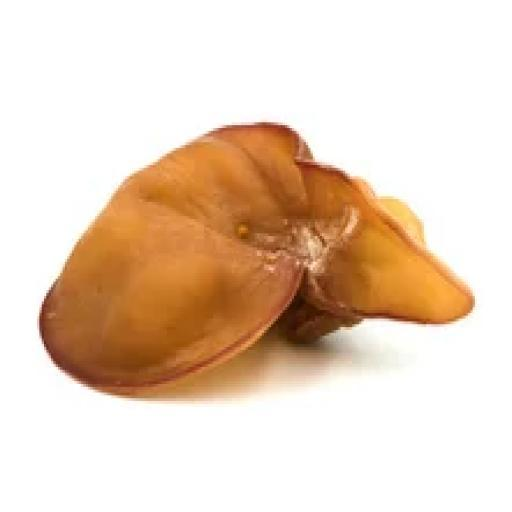mushroom: (36, 99, 481, 415)
